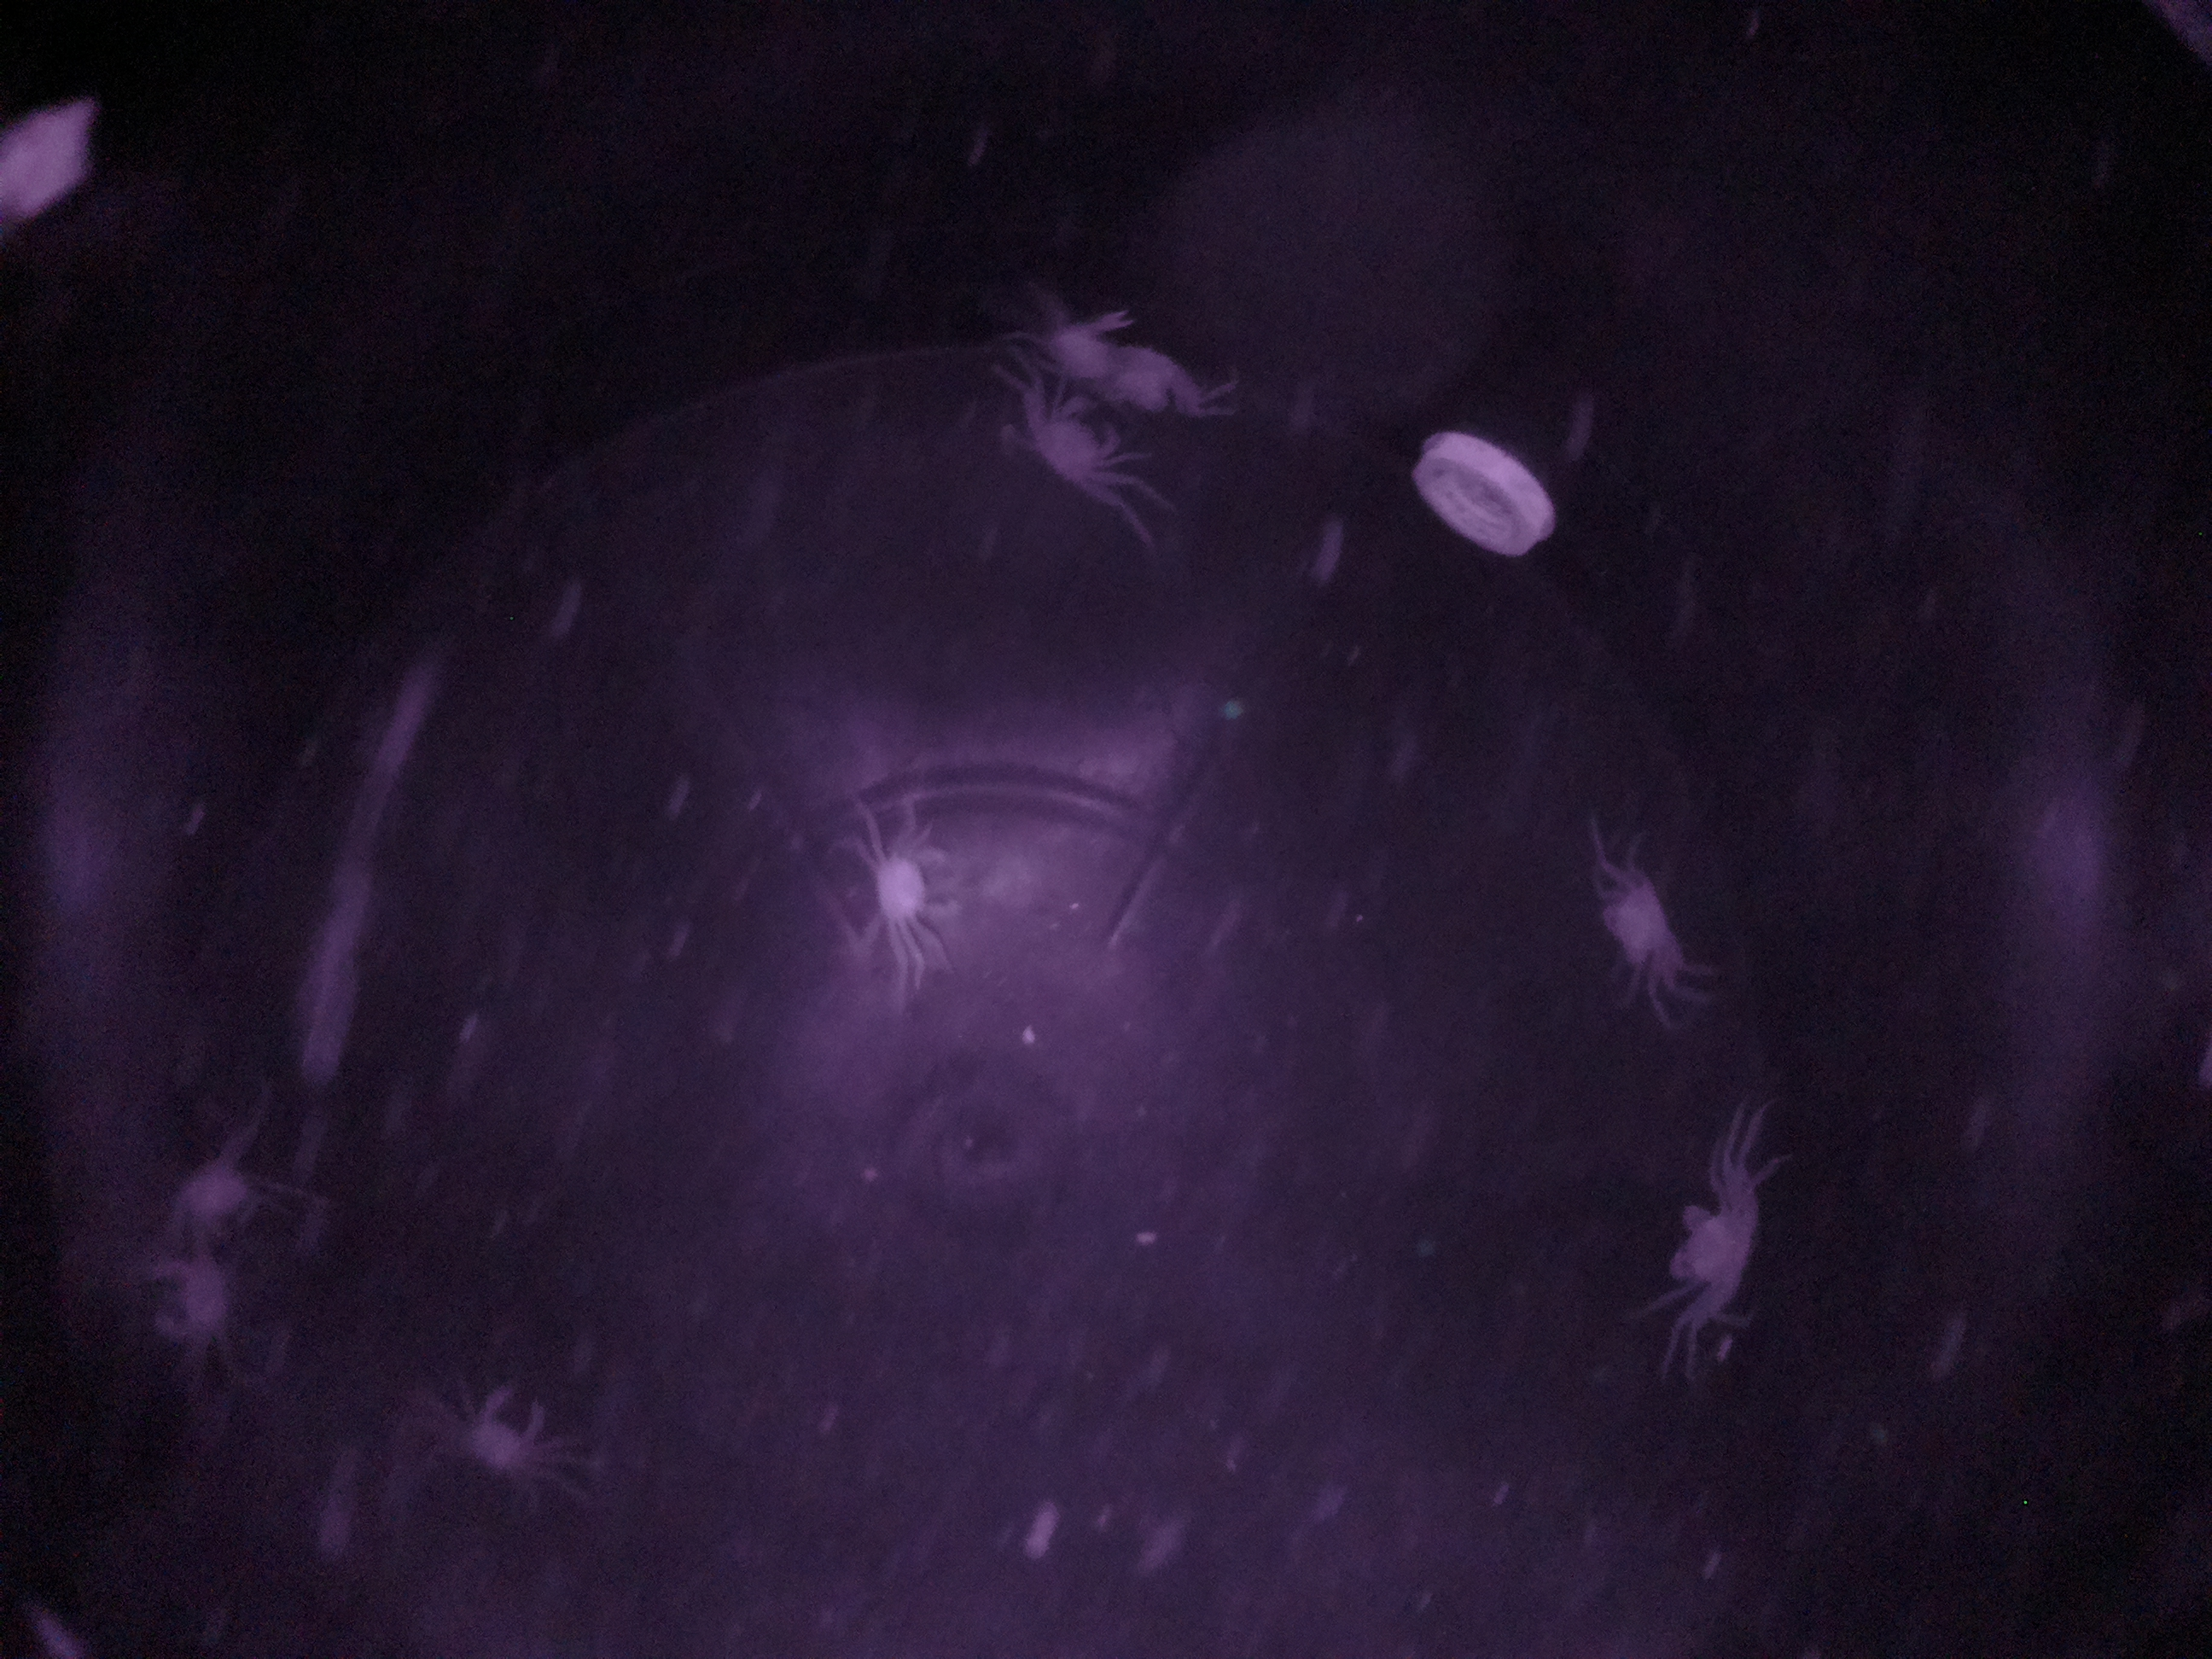Crab: (1637, 1173, 1797, 1326), (841, 816, 998, 957), (1019, 376, 1143, 523)
